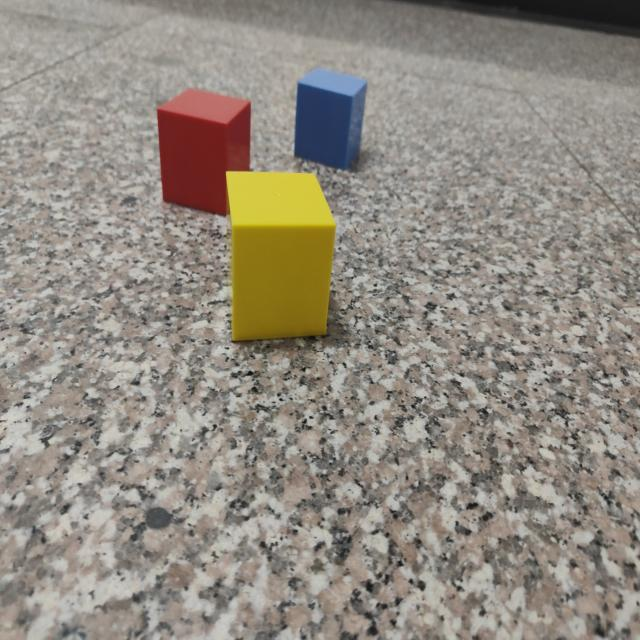blue: (293, 68, 368, 172)
red: (156, 91, 253, 217)
yellow: (224, 171, 337, 345)
